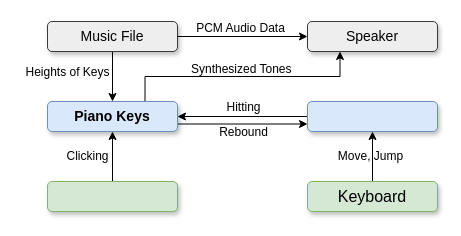
Image size: 461x236. Some labels were removed from this diagram. The shapes that lost their labels are listed below. From the top down, each one's centre as x and y in pixels, then its label:
At point 373,117: "Snow Ball".
At point 113,197: "Mouse".
